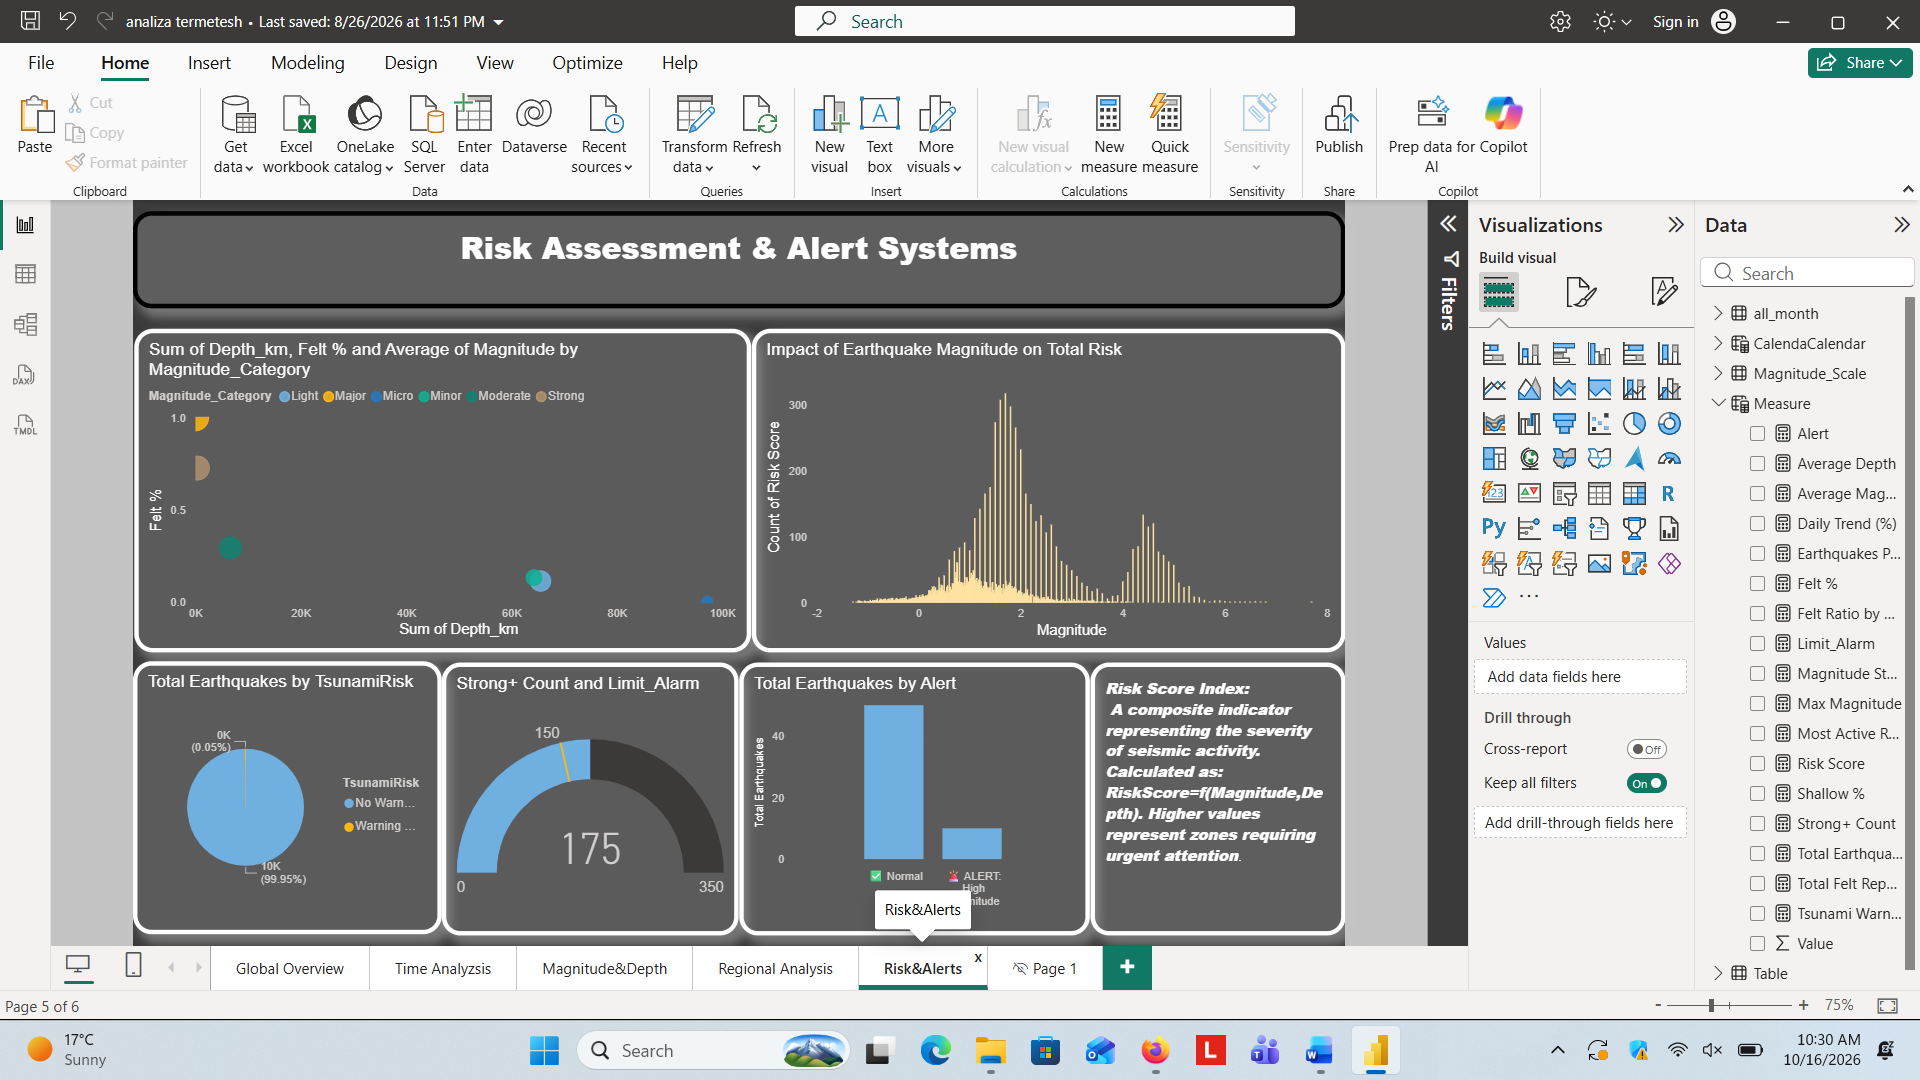

The page's visual inventory and layout, read from the dashboard file:
{"tool":"powerbi","page":{"name":"Risk&Alerts","canvas":[1300,800],"ordinal":4},"visuals":[{"type":"pieChart","fields":{"Category":["all_month.TsunamiRisk"],"Y":["Measure.Total Earthquakes"]},"box":[0,495.1,331.5,292.4],"z":0},{"type":"gauge","fields":{"TargetValue":["Measure.Limit_Alarm"],"Y":["Measure.Strong+ Count"]},"box":[331.5,496.5,318.5,292.4],"z":1000},{"type":"scatterChart","fields":{"Series":["all_month.Magnitude_Category"],"Size":["Avg(all_month.Magnitude)"],"X":["Sum(all_month.Depth_km)"],"Y":["Measure.Felt %"]},"box":[1.4,137.5,661.6,347.4],"z":2000},{"type":"clusteredColumnChart","fields":{"Category":["all_month.Alert"],"Y":["Measure.Total Earthquakes"]},"box":[650,496.5,376.4,292.4],"z":3000},{"type":"lineClusteredColumnComboChart","title":"Impact of Earthquake Magnitude on  Total Risk","fields":{"Category":["all_month.Magnitude"],"Y":["CountNonNull(all_month.Risk Score)"]},"box":[663.5,138.1,636.7,347.2],"z":4000},{"type":"textbox","box":[0,11.6,1300,104.2],"z":5000},{"type":"textbox","box":[1026.4,496.5,273.6,292.4],"z":6000}]}

Visuals, with their boxes on the page's 1300x800 design canvas (x1, y1, x2, y2). These are canvas units, not pixel positions in the 1920x1080 screenshot, which may show the page scaled, cropped or inside an application window:
pieChart - all_month.TsunamiRisk x Measure.Total Earthquakes: bbox(0, 495, 332, 788)
gauge - Measure.Limit_Alarm x Measure.Strong+ Count: bbox(332, 496, 650, 789)
scatterChart - all_month.Magnitude_Category x Avg(all_month.Magnitude): bbox(1, 138, 663, 485)
clusteredColumnChart - all_month.Alert x Measure.Total Earthquakes: bbox(650, 496, 1026, 789)
"Impact of Earthquake Magnitude on  Total Risk" lineClusteredColumnComboChart: bbox(664, 138, 1300, 485)
textbox: bbox(0, 12, 1300, 116)
textbox: bbox(1026, 496, 1300, 789)
